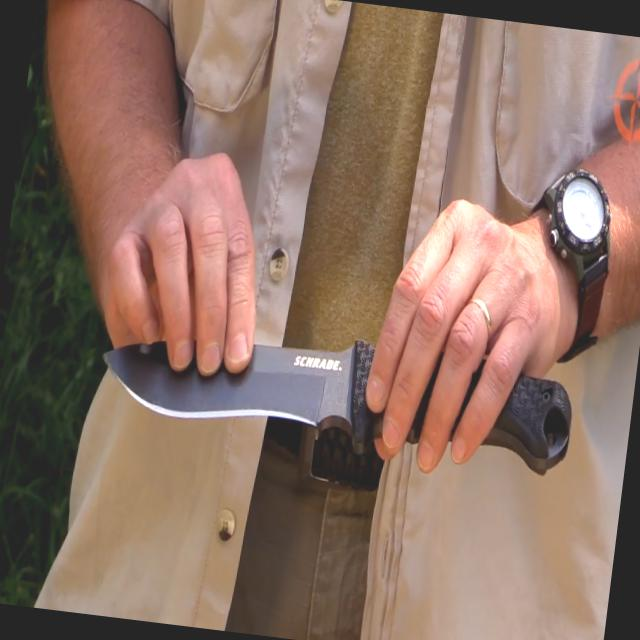knife: (78, 289, 584, 496)
